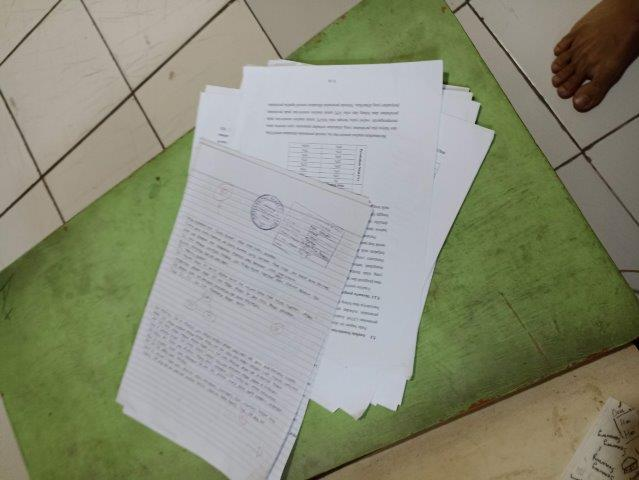kertas: (116, 59, 494, 480)
